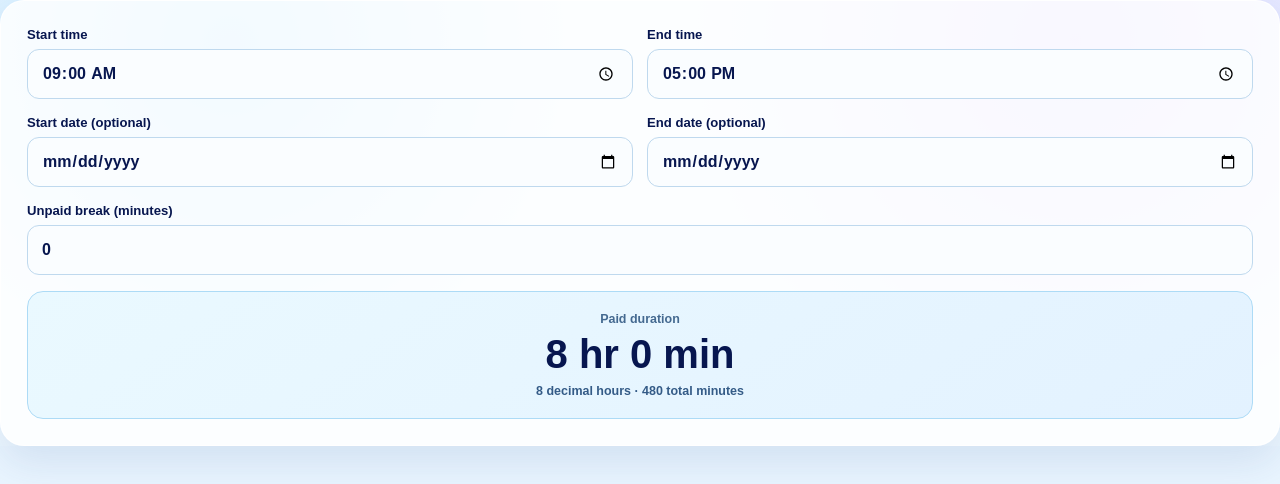
Test: Tier 1 calculator forms › requires either both duration dates or neither date
This screenshot has width=1280, height=484.
Type "2026-10-14" into the date field labelled "Start date (optional)" at (330, 162), box [27,137,633,187]
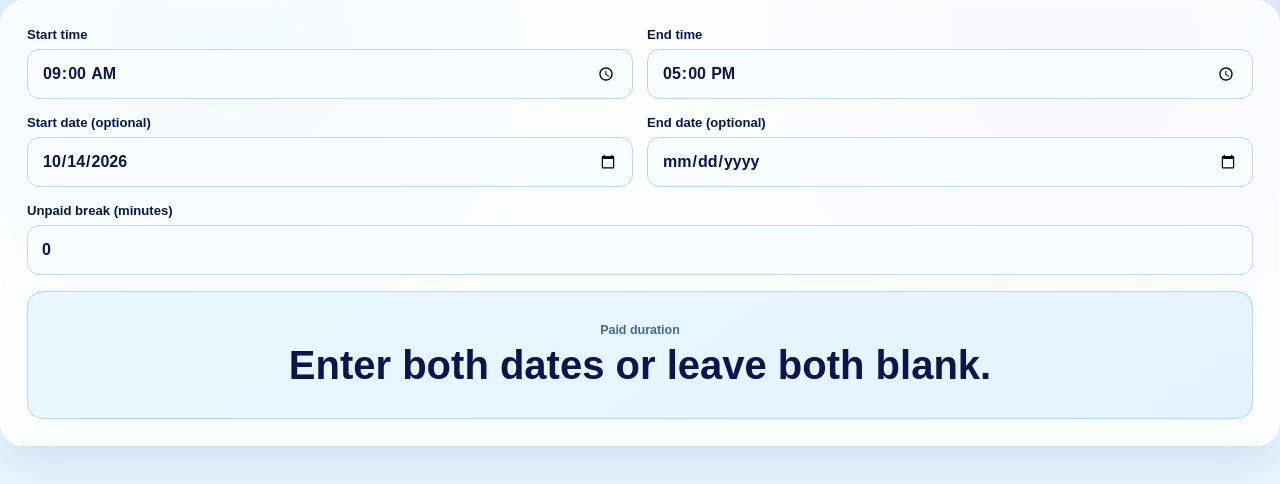
Now the text "Enter both dates or leave both blank." is shown, box [289,343,991,387]
